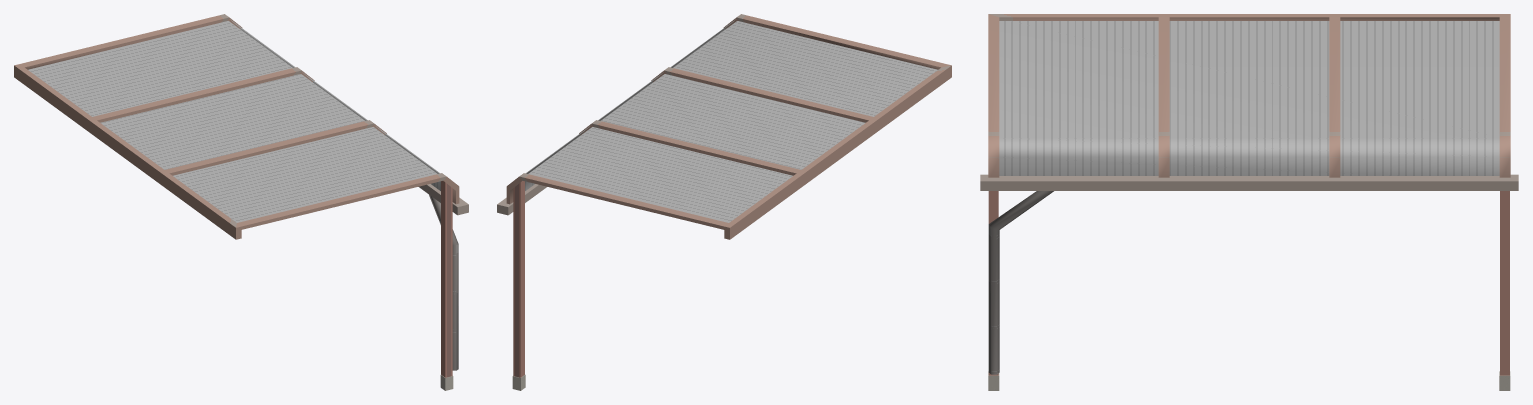
The model's file is 00f3_Carport.glb.
3 views of the same model, side by side, from view 1: azimuth 30°, elevation 25°; view 2: azimuth 150°, elevation 25°; view 3: azimuth 270°, elevation 25° (orthographic). The views are drawn at different scales.
Visible parts, largest first — view 1: part_0; view 2: part_0; view 3: part_0.
Boxes of the visible parts, x1,y1,x2,y2 form: part_0: (14,14,468,390); part_0: (497,14,951,390); part_0: (980,14,1518,390).
Size of the model in its own units: 2.67 by 2.38 by 4.6.
1 material, 1 textured.
